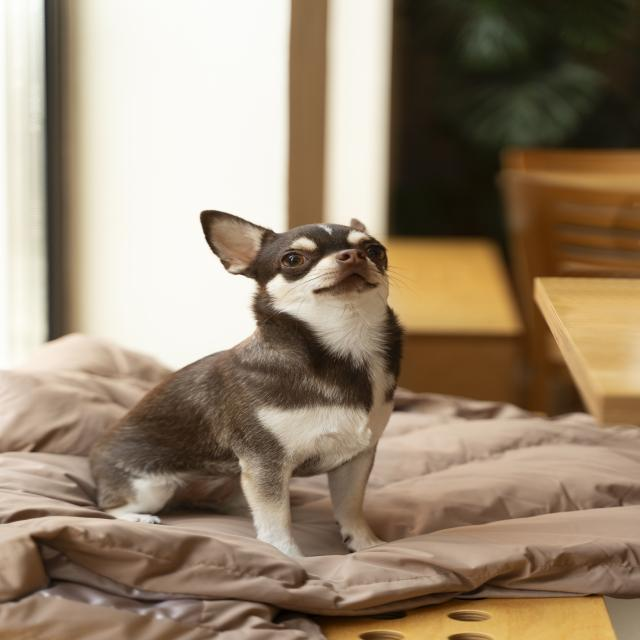dog: (90, 211, 407, 556)
